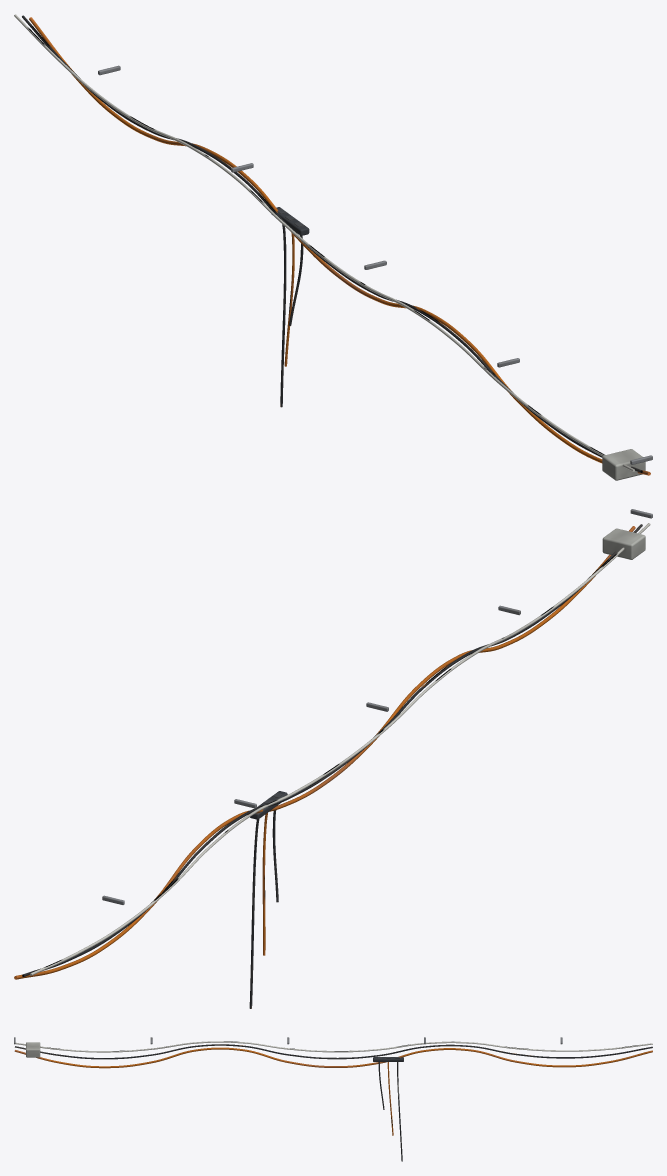
File: skr_kable.glb
3 renders of one model, top to bottom at view 1: azimuth 30°, elevation 25°; view 2: azimuth 150°, elevation 25°; view 3: azimuth 270°, elevation 25°, orthographic. The views are drawn at different scales.
Visible parts, largest first — view 1: Kable; view 2: Kable; view 3: Kable.
Boxes of the visible parts, x1,y1,x2,y2 form: Kable: (14, 14, 652, 480); Kable: (14, 509, 652, 1008); Kable: (14, 1037, 652, 1161).
Bounding box in the file's own units: 0.2175 × 1.42 × 7.01.
1 material, 1 textured.
